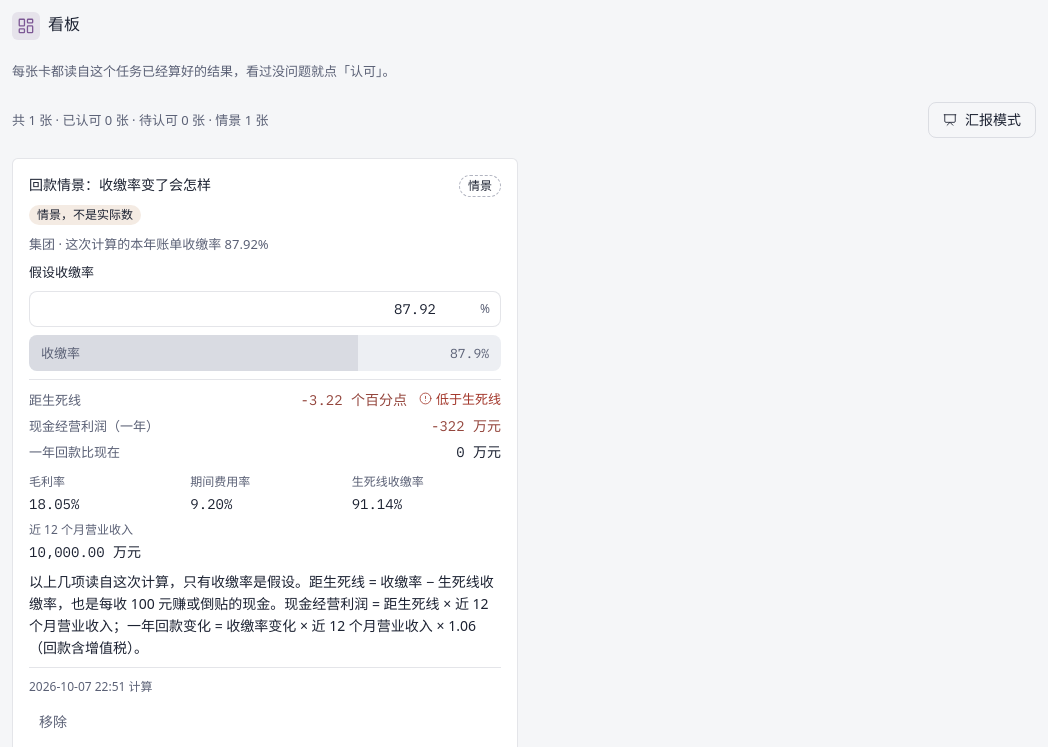
Test: the 回款情景 card and asking the assistant for cards › moves the rate by hand, flags itself as a what-if and is never offered for acceptance
This screenshot has width=1048, height=747.
Check: the text "情景，不是实际数" is shown, box [29, 205, 141, 225]
Check: the text "情景" is shown, box [459, 175, 501, 197]
Replace the text in the field labelled "假设收缴率" with "92" at (265, 309), box [29, 291, 501, 327]
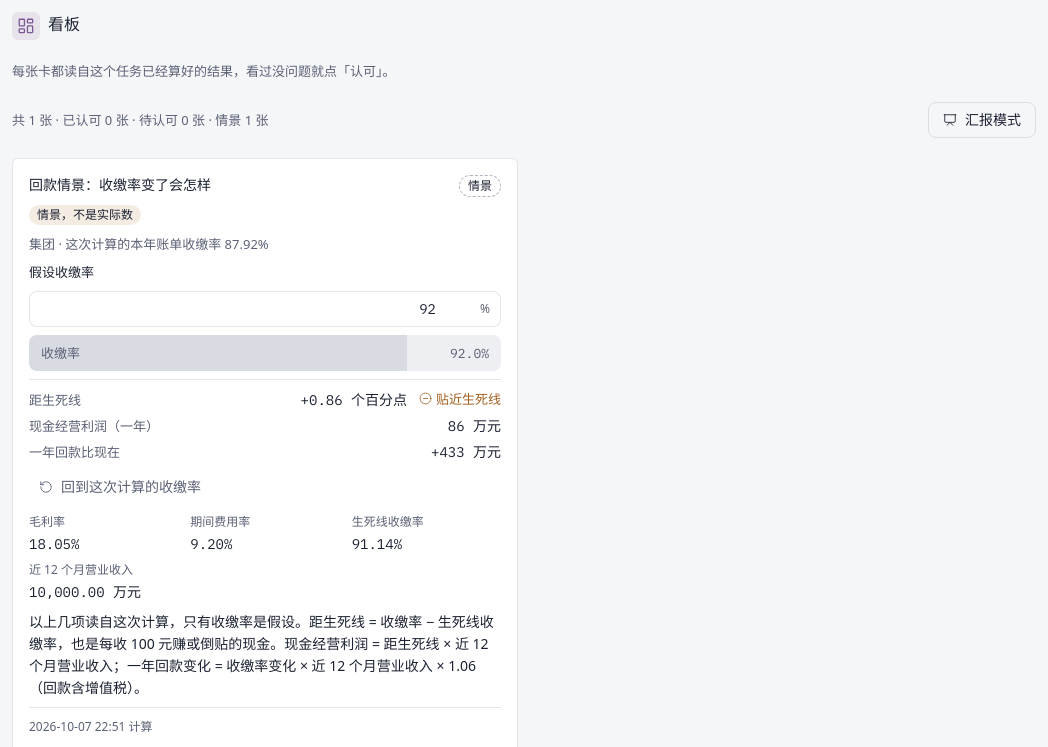
Check: the text "+0.86 个百分点" is shown, box [301, 389, 407, 411]
Check: the text "贴近生死线" is shown, box [419, 388, 501, 410]
Check: the text "86 万元" is shown, box [448, 415, 501, 437]
Click the button "回到这次计算的收缴率" at (120, 487), box [29, 471, 211, 503]
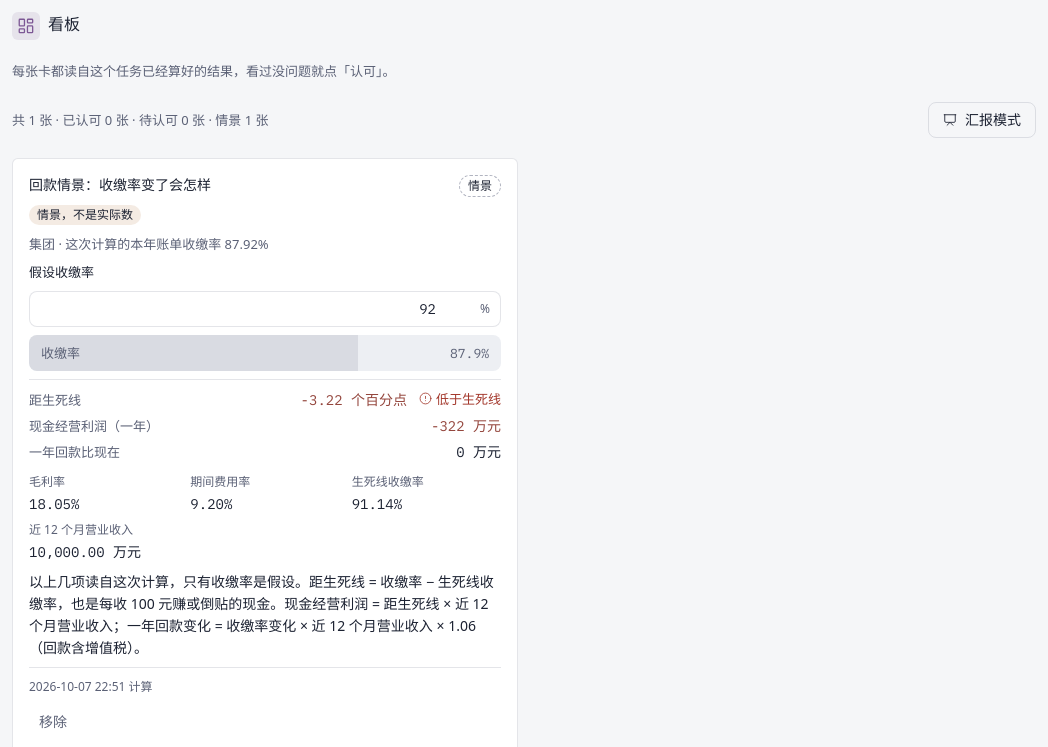
Check: the text "低于生死线" is shown, box [419, 388, 501, 410]
